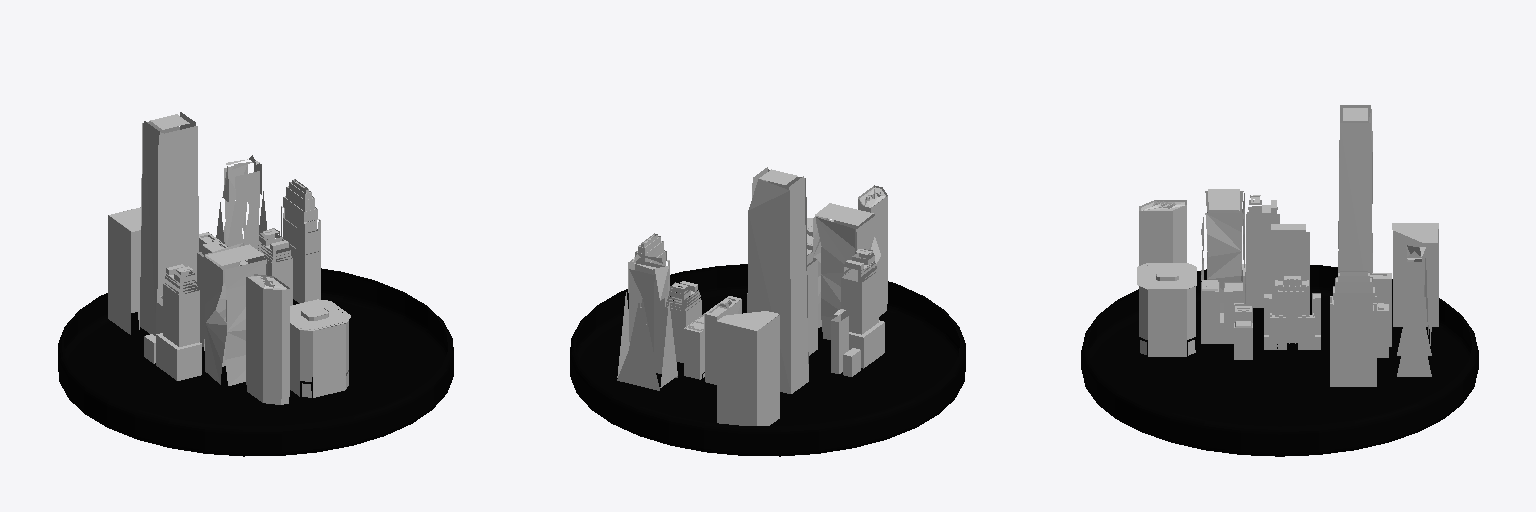
The model's file is columns.obj.
3 views of the same model, side by side, from view 1: azimuth 30°, elevation 25°; view 2: azimuth 150°, elevation 25°; view 3: azimuth 270°, elevation 25° (orthographic).
Visible parts, largest first — view 1: Object_23; view 2: Object_23; view 3: Object_23.
Boxes of the visible parts, box(x1,y1,x2,y2) form: Object_23: box(58, 112, 453, 456); Object_23: box(570, 167, 965, 456); Object_23: box(1081, 105, 1478, 456).
Bounding box in the file's own units: 378 × 250 × 378.